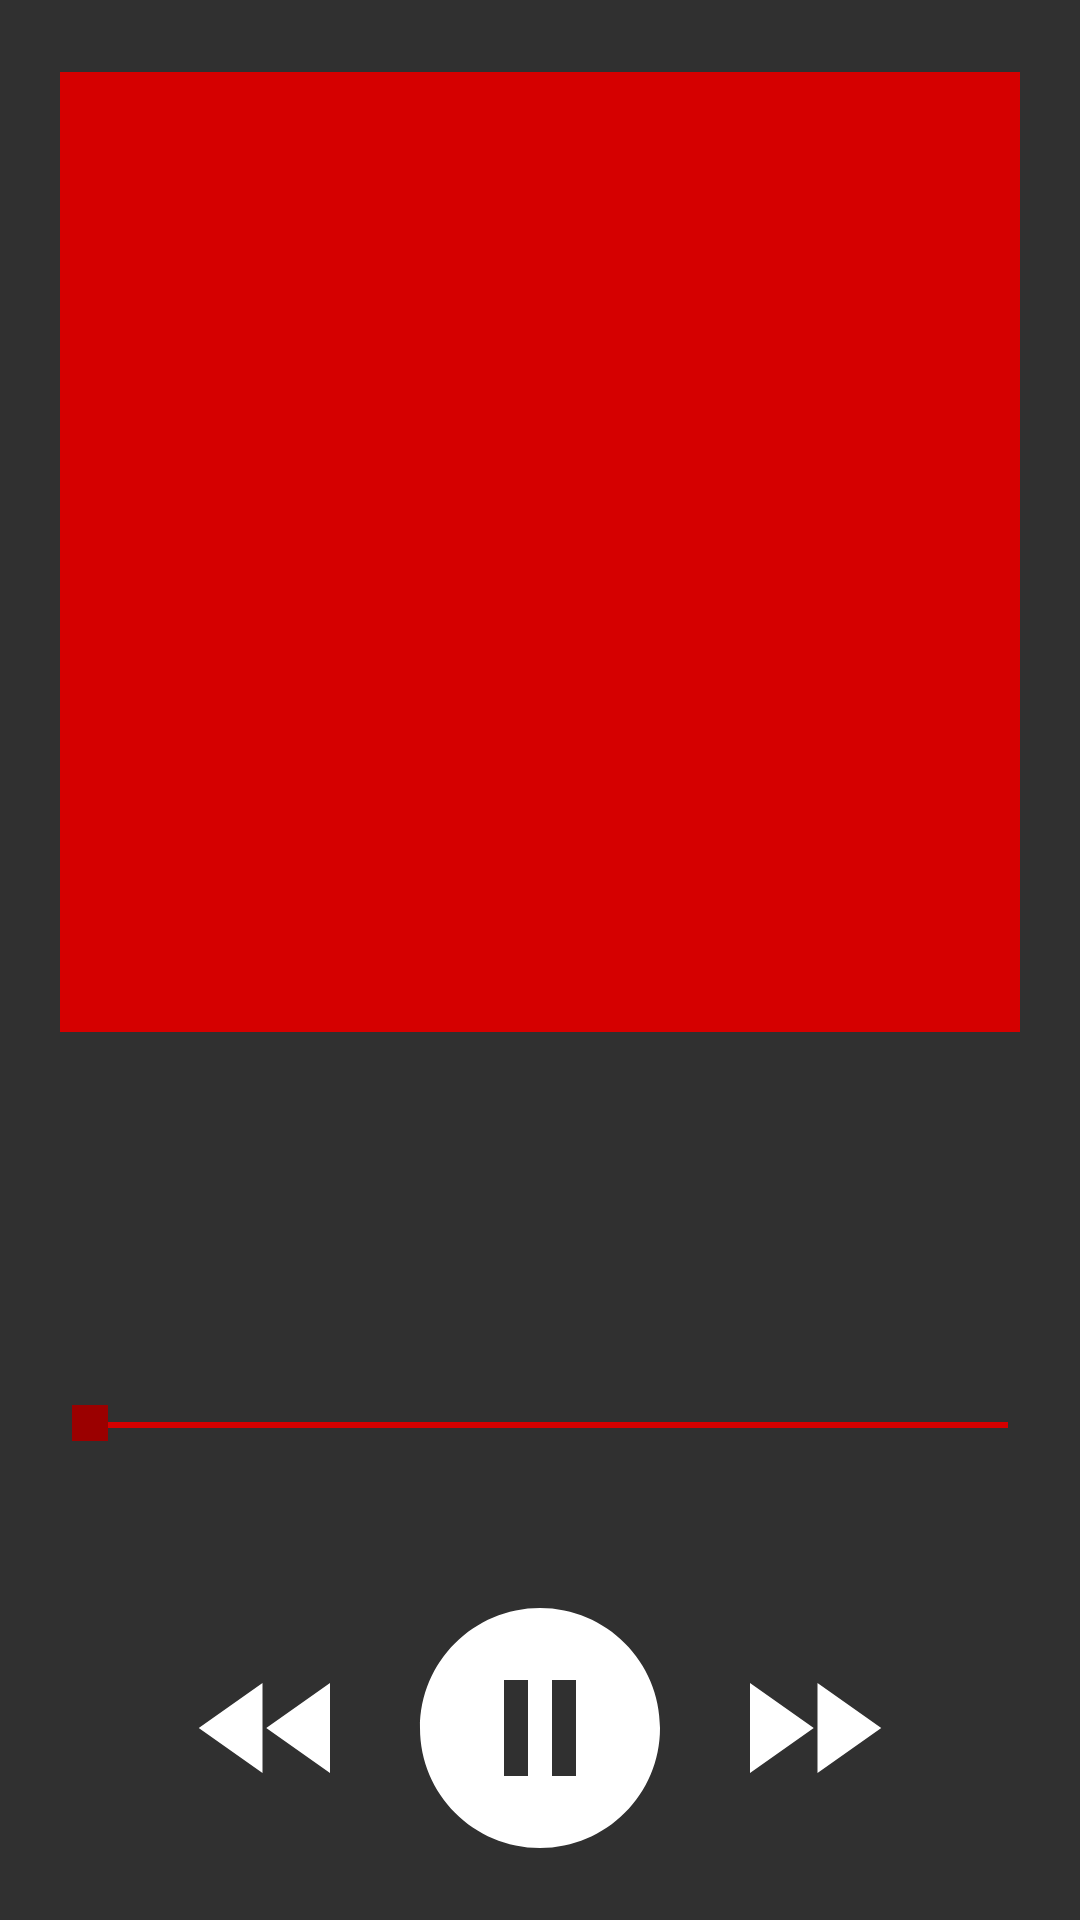

Point at icon controls on the screen. Image size 1080w x 1920h, points as point (x, y).
fast forward: point (815, 1728)
fast rewind: point (264, 1728)
